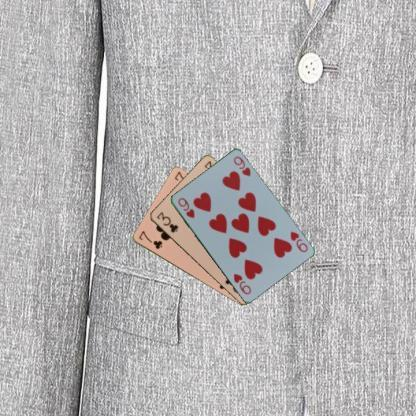3c: (154, 209, 179, 234)
7c: (136, 228, 164, 250)
9h: (287, 229, 309, 254), (175, 194, 196, 219)
